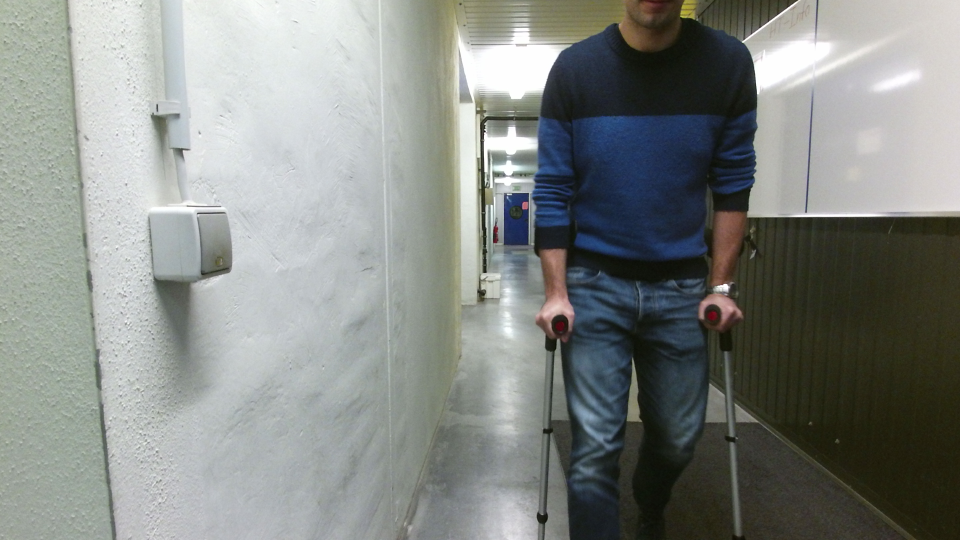crutches: (520, 1, 765, 540)
